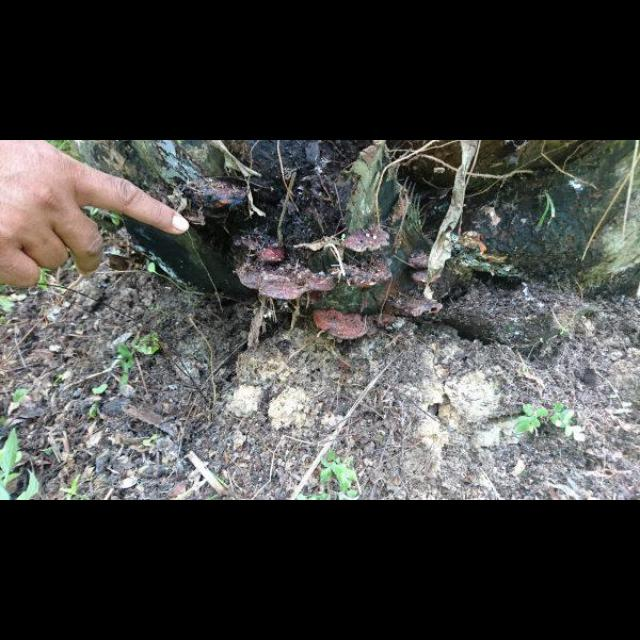ganoderma: (238, 261, 338, 304), (315, 309, 368, 342), (346, 257, 395, 291), (387, 296, 445, 321), (343, 229, 395, 254), (407, 252, 439, 288), (255, 246, 288, 264)
